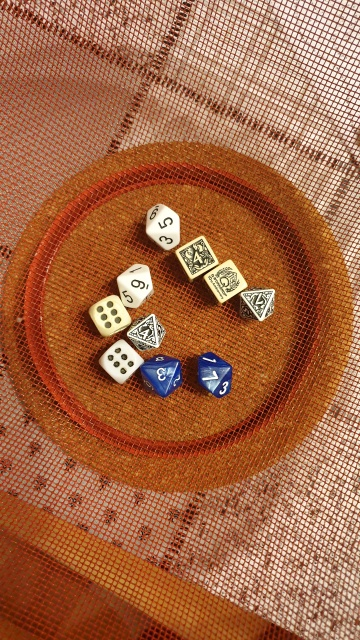d10-3: (142, 352, 182, 400)
d10-5: (138, 202, 183, 250)
d10-7: (195, 348, 233, 401)
d10-9: (116, 258, 157, 315)
d6-6: (86, 296, 131, 337), (96, 341, 140, 382)
d6p-4: (175, 237, 220, 283)
d6p-6: (201, 258, 247, 304)
d8p-4: (125, 314, 164, 353)
d8p-7: (238, 283, 280, 325)
